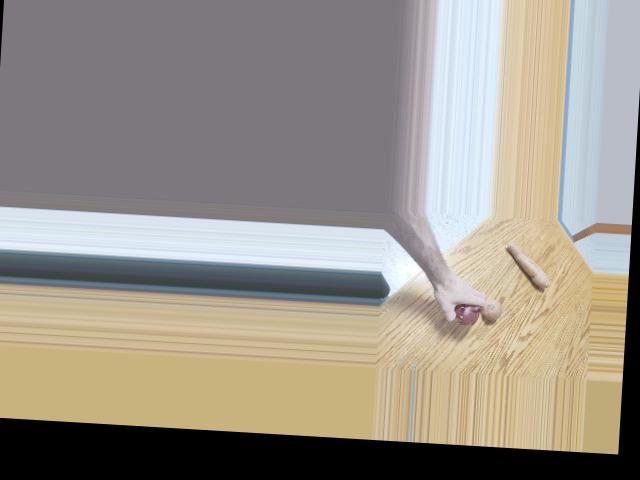onion: (478, 297, 503, 321)
